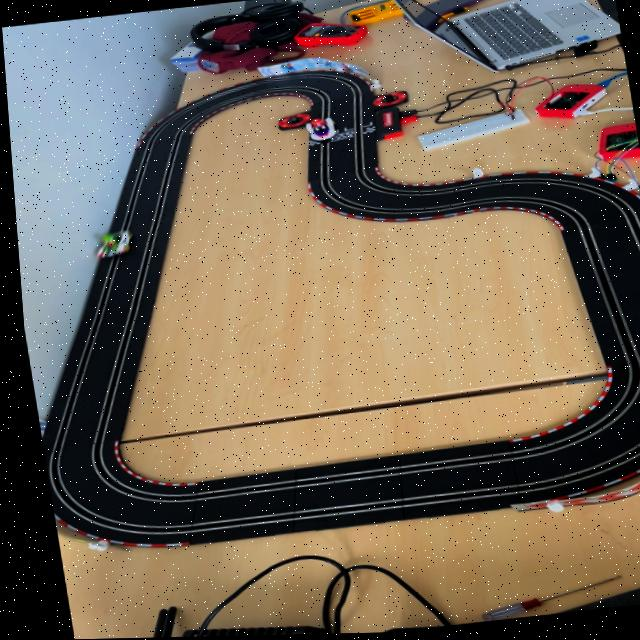mario: (300, 116, 338, 145)
yoshi: (84, 227, 134, 261)
